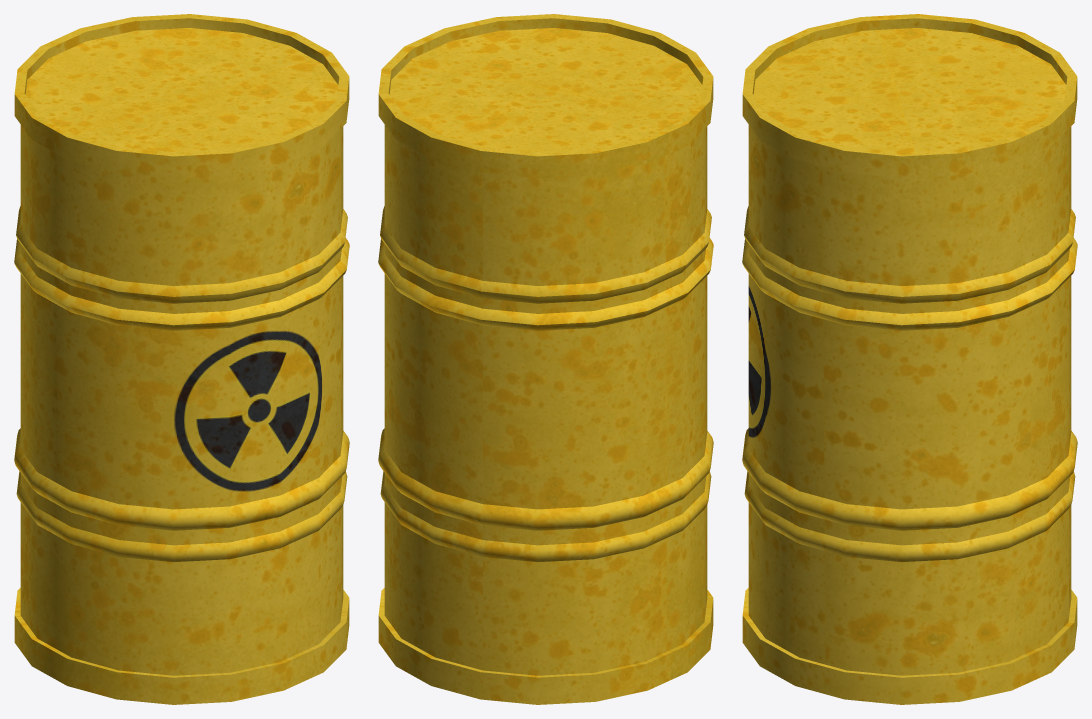
File: Nuclear Can.fbx
3 renders of one model, left to right at view 1: azimuth 30°, elevation 25°; view 2: azimuth 150°, elevation 25°; view 3: azimuth 270°, elevation 25°, orthographic.
Parts seen in each view (by area): view 1: Cylinder; view 2: Cylinder; view 3: Cylinder.
Part boxes in pixels (x1,y1,x2,y2): Cylinder: (14, 14, 349, 704); Cylinder: (378, 14, 713, 704); Cylinder: (742, 14, 1077, 704).
Size of the model in its own units: 239 by 428 by 238.
